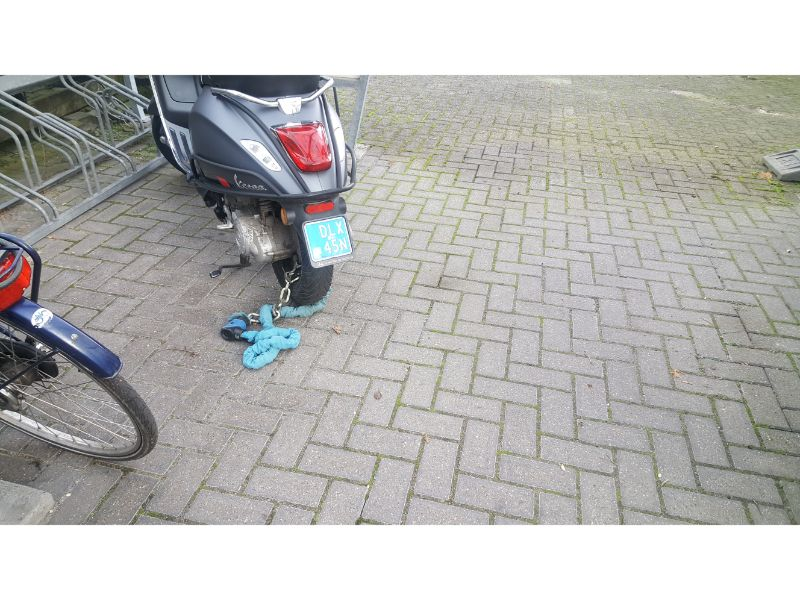kenteken: (299, 213, 357, 263)
